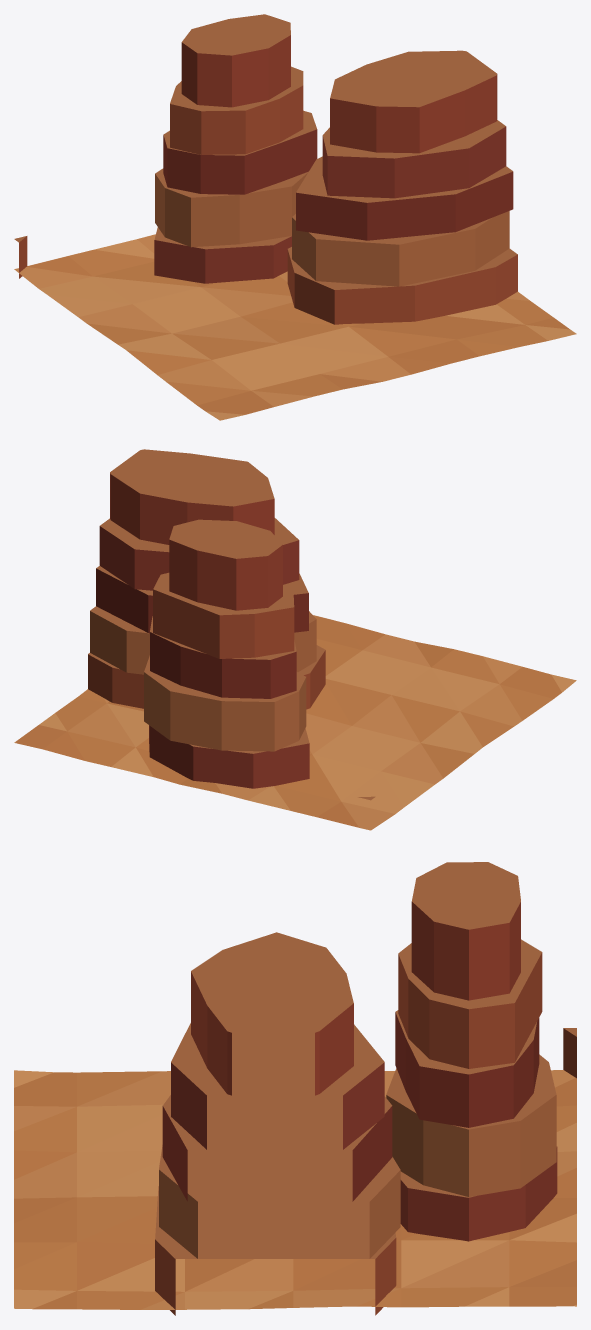
The picture shows the model from 3 angles, top to bottom: view 1: azimuth 30°, elevation 25°; view 2: azimuth 150°, elevation 25°; view 3: azimuth 270°, elevation 25°; orthographic projection. The views are drawn at different scales.
Visible parts, largest first — view 1: baked; view 2: baked; view 3: baked.
Part boxes in pixels (x1,y1,x2,y2): baked: [14, 14, 576, 420]; baked: [14, 449, 576, 830]; baked: [14, 862, 576, 1315].
Bounding box in the file's own units: 62.5 × 37.5 × 62.5.
